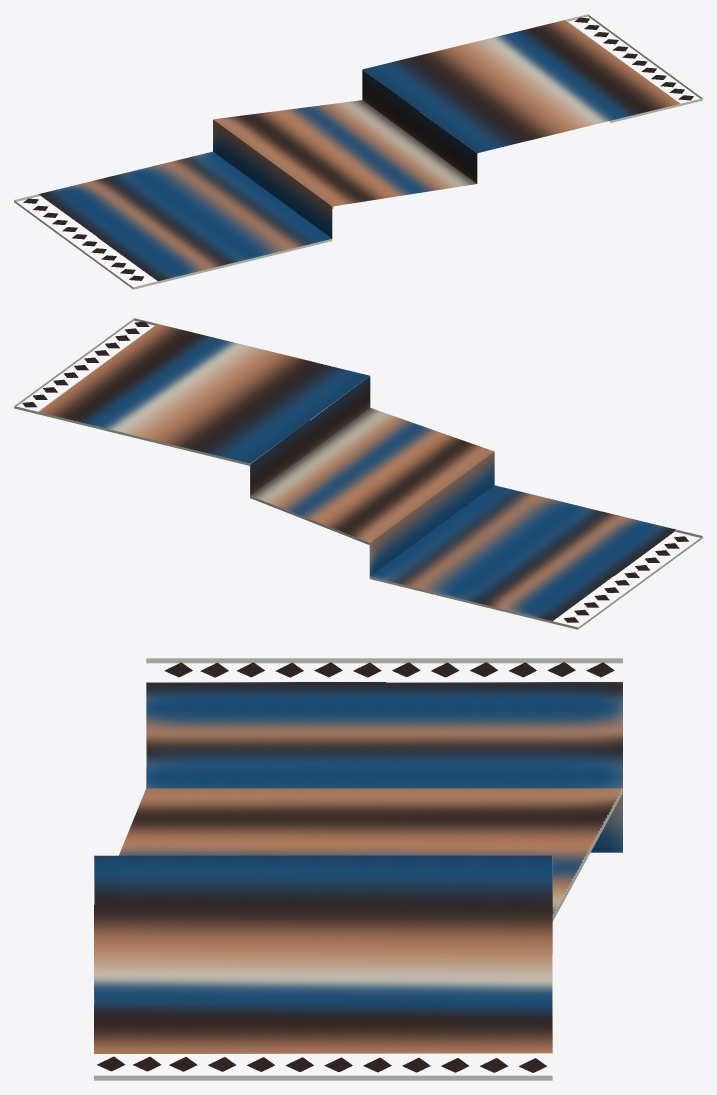
Rendered from _arpet3.FBX.
The picture shows the model from 3 angles, top to bottom: view 1: azimuth 30°, elevation 25°; view 2: azimuth 150°, elevation 25°; view 3: azimuth 270°, elevation 25°; orthographic projection. The views are drawn at different scales.
Parts seen in each view (by area): view 1: carpet3; view 2: carpet3; view 3: carpet3.
Boxes of the visible parts, x1=… form: carpet3: x1=14, y1=14, x2=702, y2=289; carpet3: x1=14, y1=318, x2=702, y2=629; carpet3: x1=94, y1=658, x2=622, y2=1080.
Size of the model in its own units: 1.32 by 0.1475 by 0.5422.
Materials: 1 (1 with a texture image).
